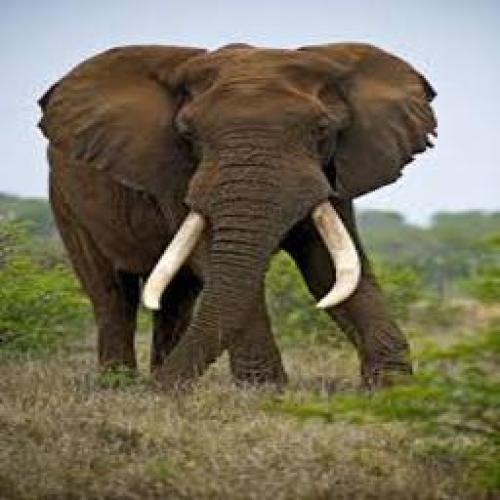african_elephant-endangered: (34, 39, 438, 392)
